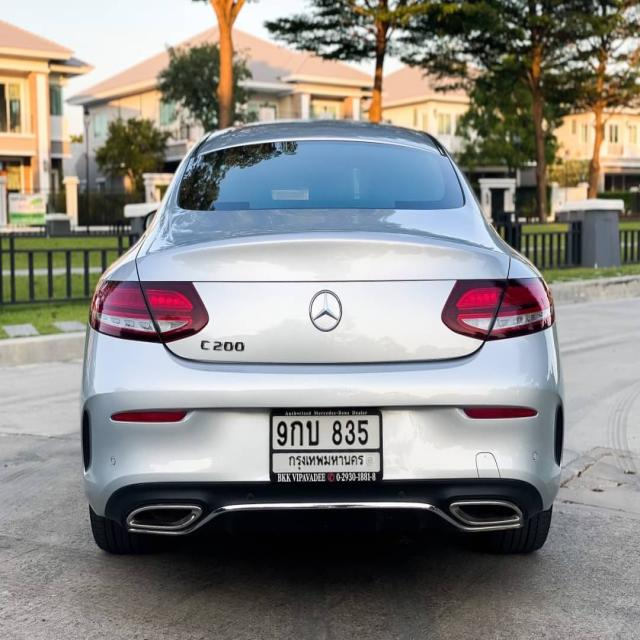license_plate: (268, 406, 384, 484)
